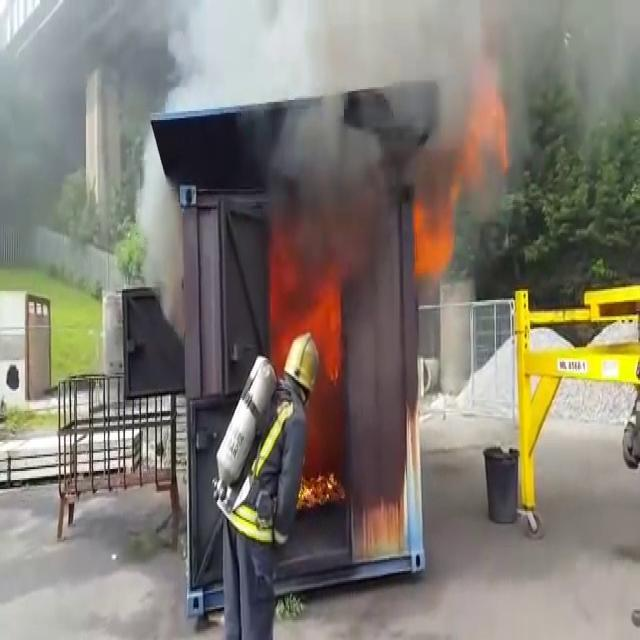Fire: (282, 232, 356, 526), (424, 192, 458, 268)
Smoke: (232, 0, 496, 167)
